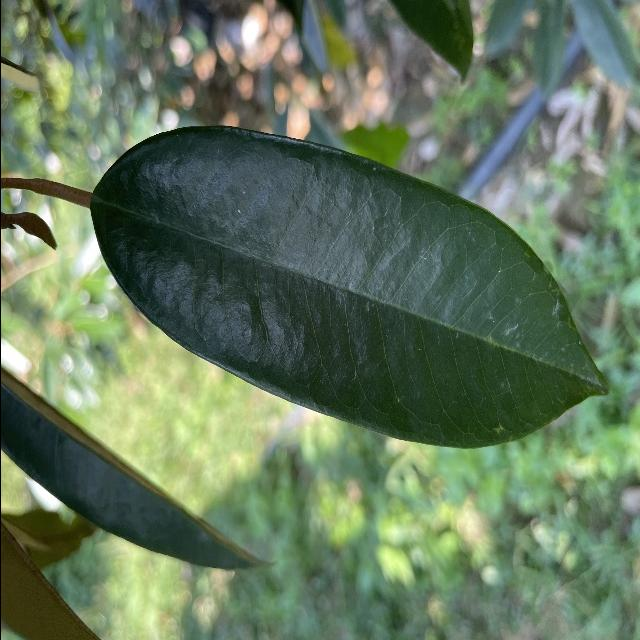No Disease: (81, 115, 617, 458)
